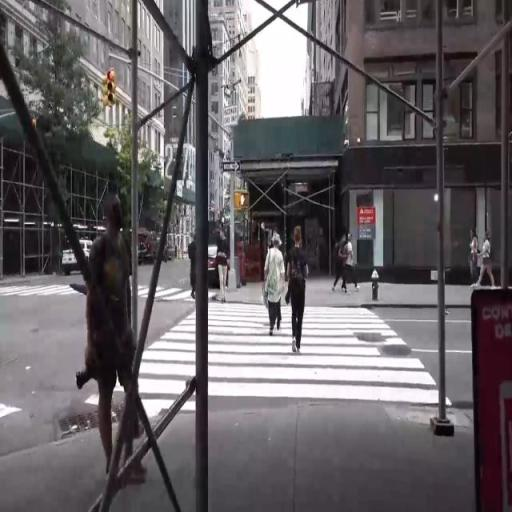person: (86, 208, 151, 485), (287, 224, 313, 356), (265, 229, 286, 331), (216, 225, 237, 308), (335, 237, 350, 304), (480, 226, 495, 288), (468, 227, 480, 289), (348, 235, 359, 296), (191, 231, 201, 286)
